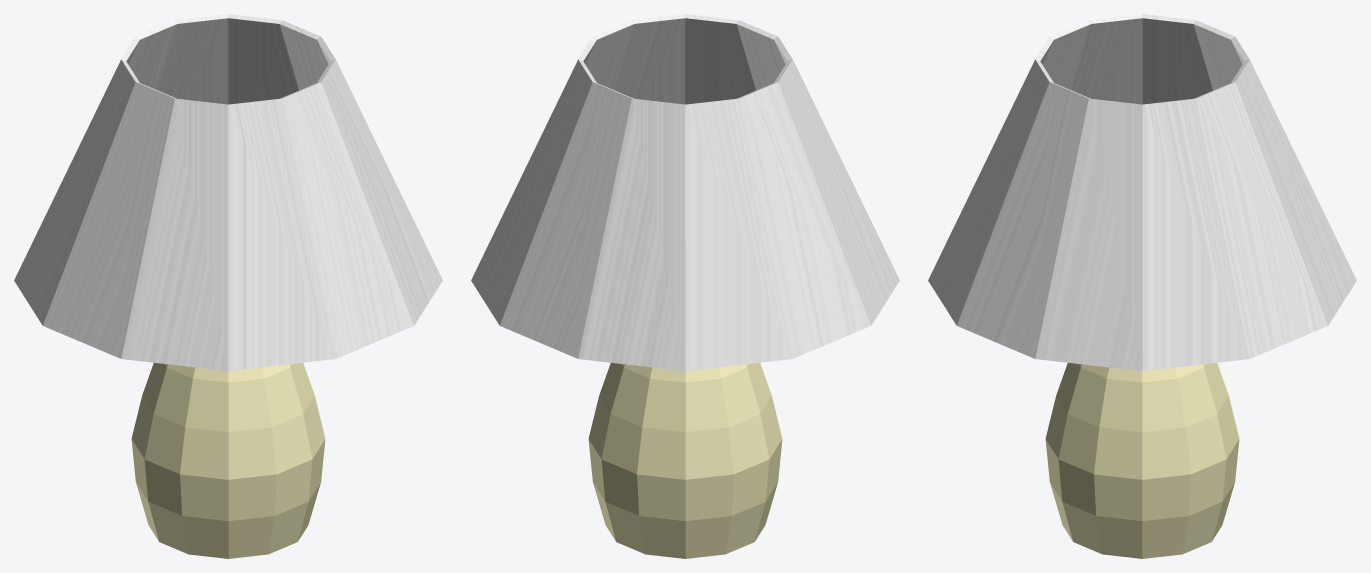
File: Lampara.fbx
3 renders of one model, left to right at view 1: azimuth 30°, elevation 25°; view 2: azimuth 150°, elevation 25°; view 3: azimuth 270°, elevation 25°, orthographic.
Parts seen in each view (by area): view 1: Cylinder.001; view 2: Cylinder.001; view 3: Cylinder.001.
Part boxes in pixels (left/top/right/bottom): Cylinder.001: left=14, top=14, right=442, bottom=558; Cylinder.001: left=471, top=14, right=899, bottom=558; Cylinder.001: left=928, top=14, right=1356, bottom=558.
Bounding box in the file's own units: 345 × 413 × 345.
Materials: 3 (3 with a texture image).
